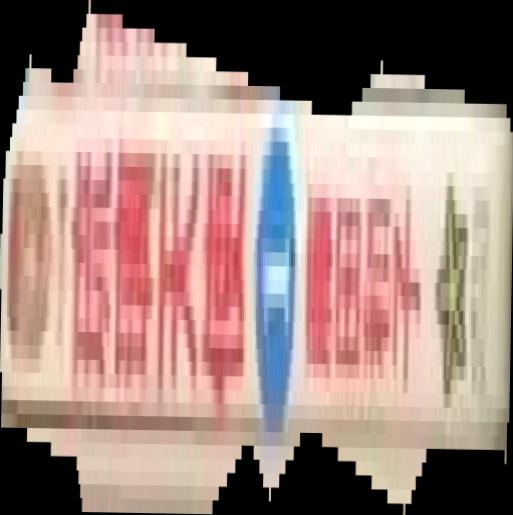flat: (1, 1, 513, 515)
